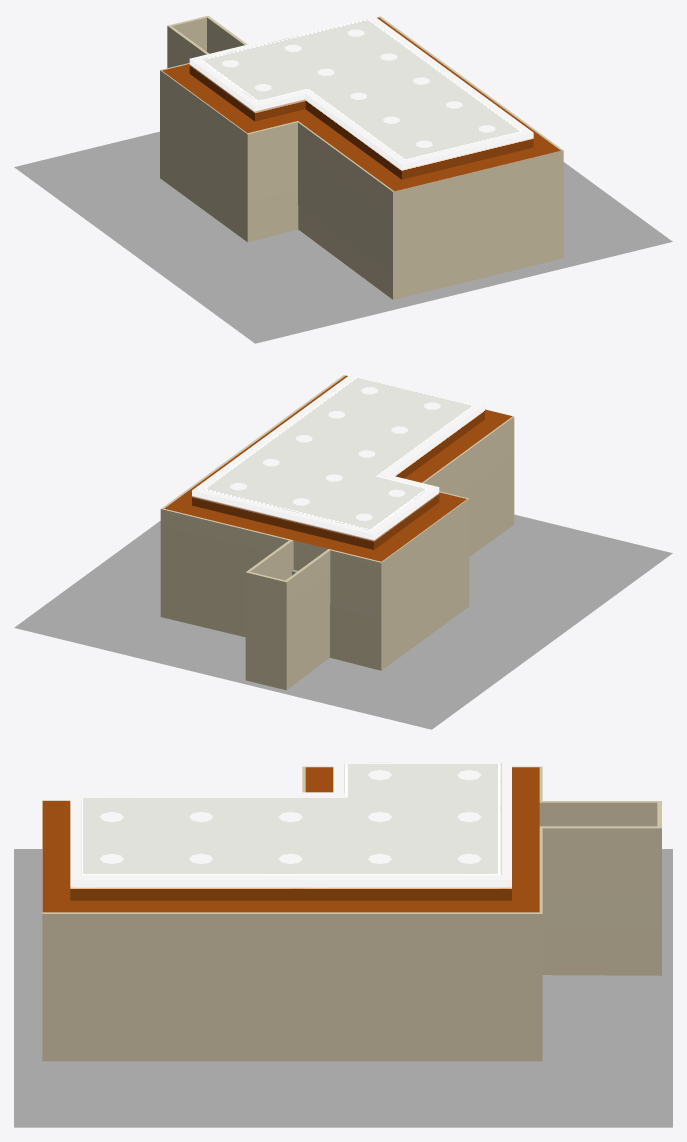
Rendered from Gudang.fbx.
3 views of the same model, one above another, from view 1: azimuth 30°, elevation 25°; view 2: azimuth 150°, elevation 25°; view 3: azimuth 270°, elevation 25° (orthographic). The views are drawn at different scales.
Parts seen in each view (by area): view 1: Tembok.001, Lantai, Atap; view 2: Lantai, Tembok.001, Atap; view 3: Tembok.001, Atap, Lantai.
Boxes of the visible parts, x1,y1,x2,y2 form: Tembok.001: (160, 15, 563, 299); Lantai: (14, 131, 672, 343); Atap: (162, 14, 560, 191); Lantai: (14, 514, 672, 729); Tembok.001: (160, 375, 514, 690); Atap: (164, 372, 512, 561); Tembok.001: (42, 766, 661, 1061); Atap: (42, 758, 539, 912); Lantai: (14, 849, 672, 1127).
Size of the model in its own units: 2759 by 780 by 2759.
Materials: 11 (11 with a texture image).
